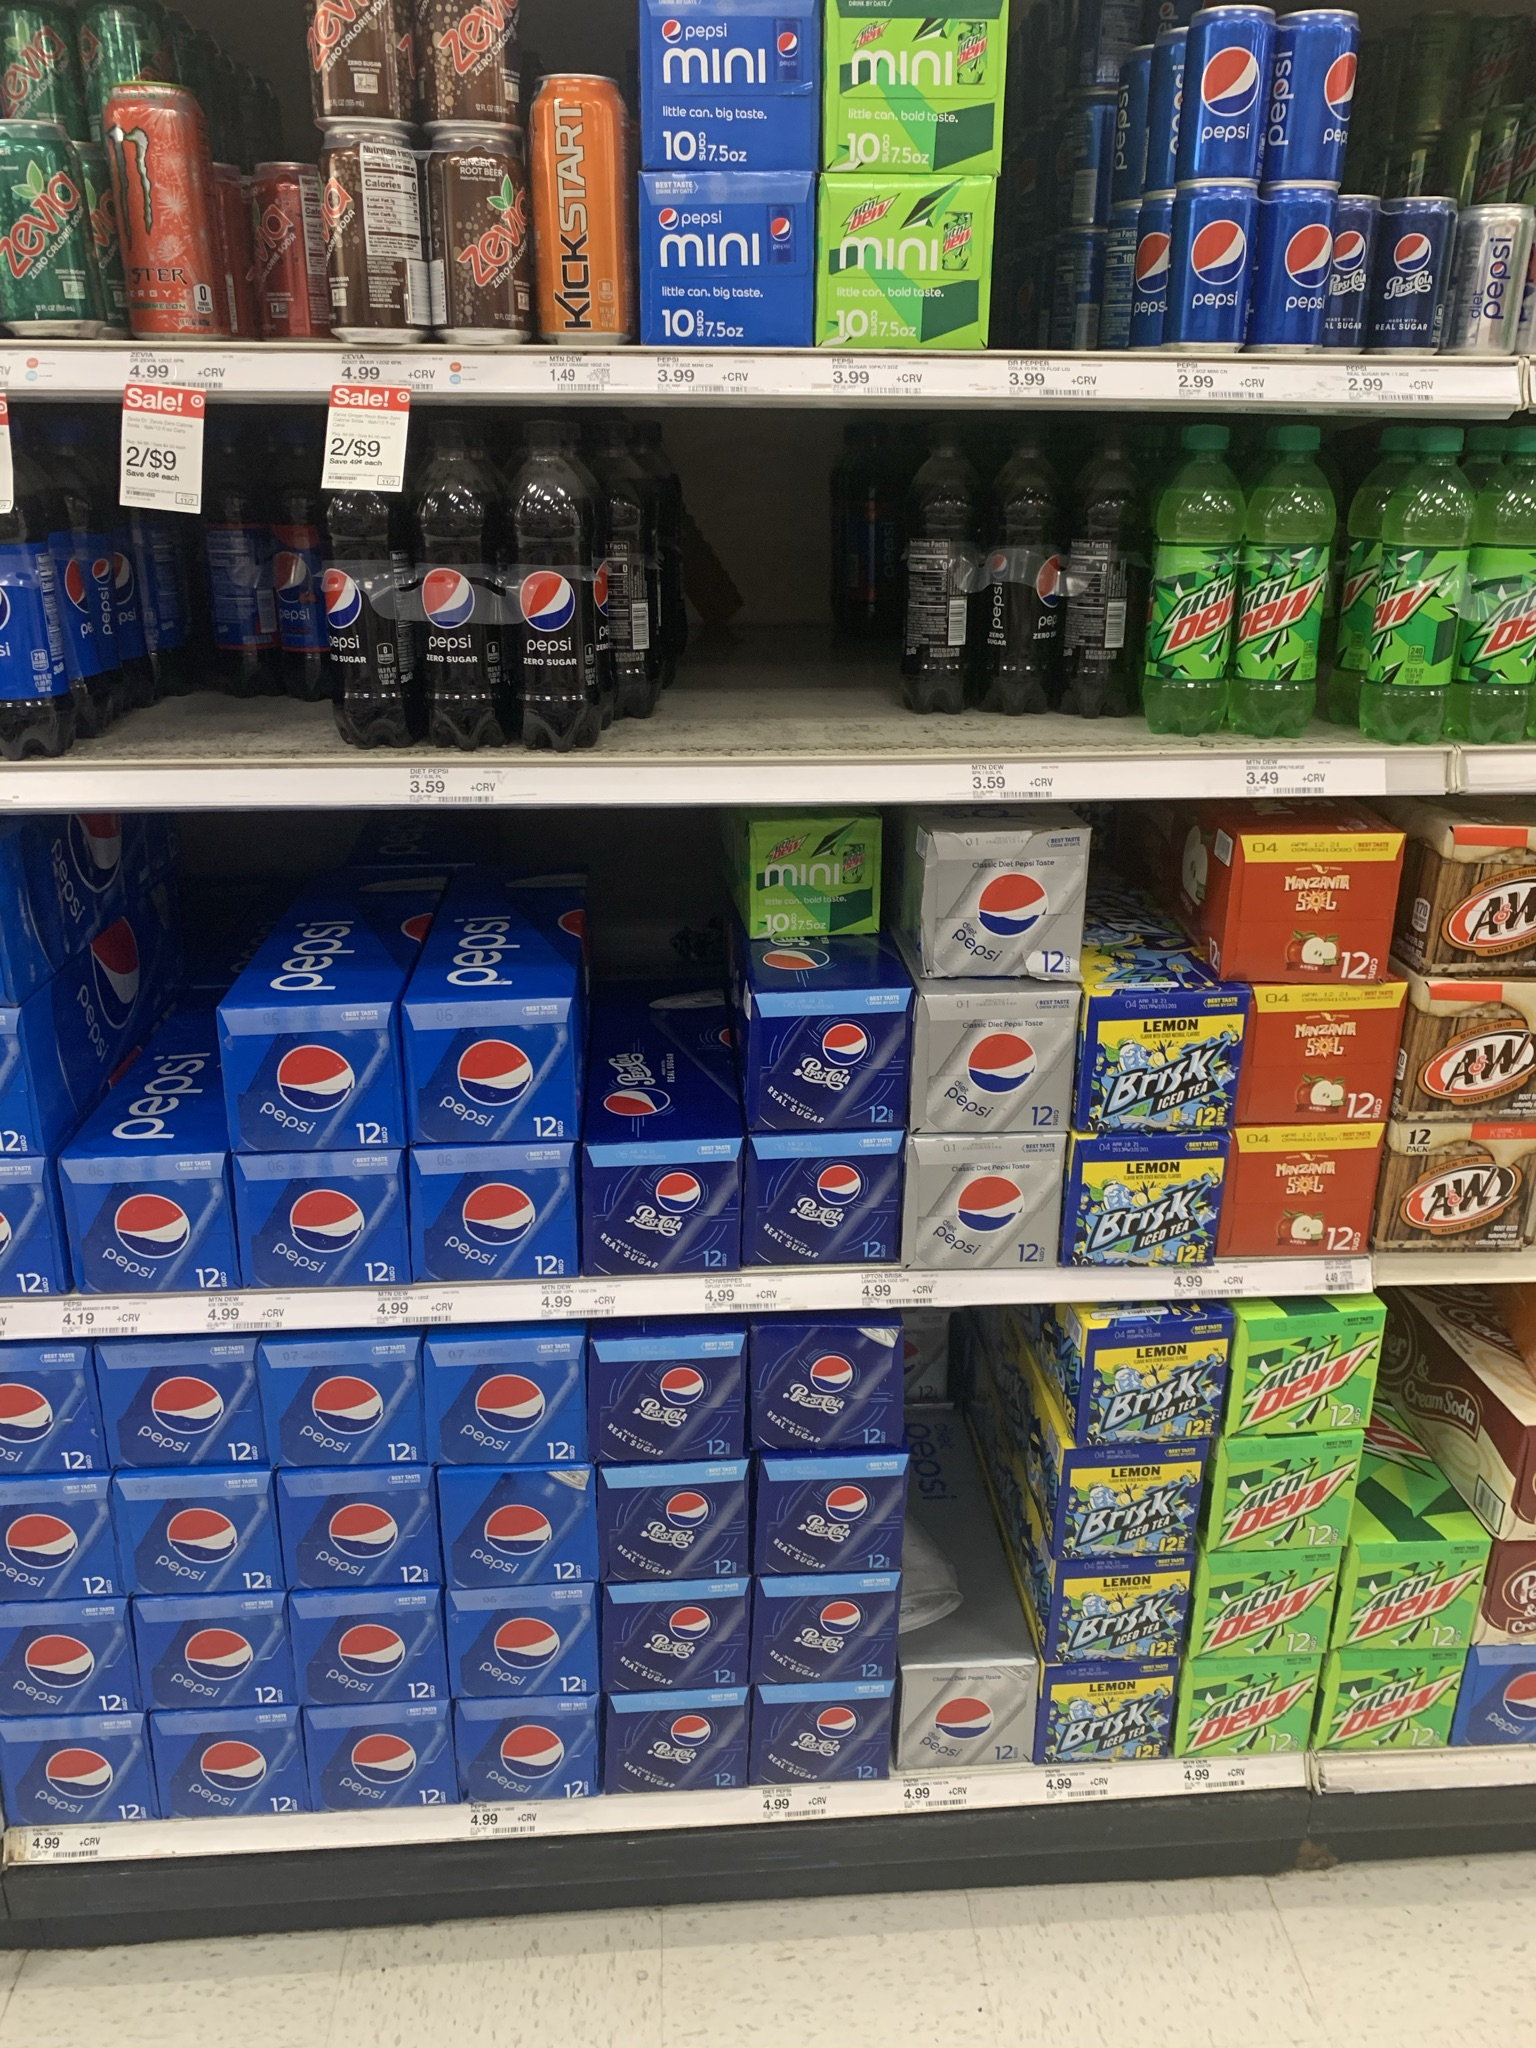Soda: (1365, 423, 1489, 724), (495, 419, 611, 731), (98, 76, 226, 335), (310, 450, 418, 750), (523, 61, 636, 342), (211, 1003, 407, 1163), (632, 3, 818, 171), (1218, 826, 1409, 985), (1242, 416, 1338, 731), (824, 6, 1000, 176), (407, 406, 494, 743), (920, 818, 1097, 980), (824, 182, 992, 340), (319, 111, 431, 348), (1154, 414, 1238, 727), (744, 987, 912, 1130), (916, 987, 1087, 1127), (431, 116, 541, 332), (1236, 980, 1392, 1130), (65, 1147, 231, 1284), (416, 1001, 570, 1150), (94, 1340, 261, 1472), (750, 1458, 912, 1595), (103, 1477, 279, 1601), (1218, 1132, 1389, 1258), (1097, 985, 1234, 1142), (423, 1334, 581, 1467), (605, 1464, 757, 1601), (119, 1595, 302, 1708), (741, 826, 887, 964), (1234, 1303, 1389, 1432), (594, 1140, 737, 1279), (758, 1324, 899, 1459), (295, 1595, 442, 1711), (152, 1716, 307, 1821), (1041, 1564, 1187, 1672), (899, 1663, 1041, 1771), (1341, 1542, 1483, 1650), (1081, 1347, 1217, 1456), (2, 1722, 150, 1822), (1321, 1655, 1463, 1756), (752, 1677, 889, 1780), (1181, 163, 1254, 352), (1263, 168, 1341, 342), (1071, 1471, 1207, 1569), (1292, 6, 1362, 182), (597, 1695, 737, 1780), (1199, 11, 1267, 181), (1462, 187, 1530, 350), (1391, 185, 1442, 356)
